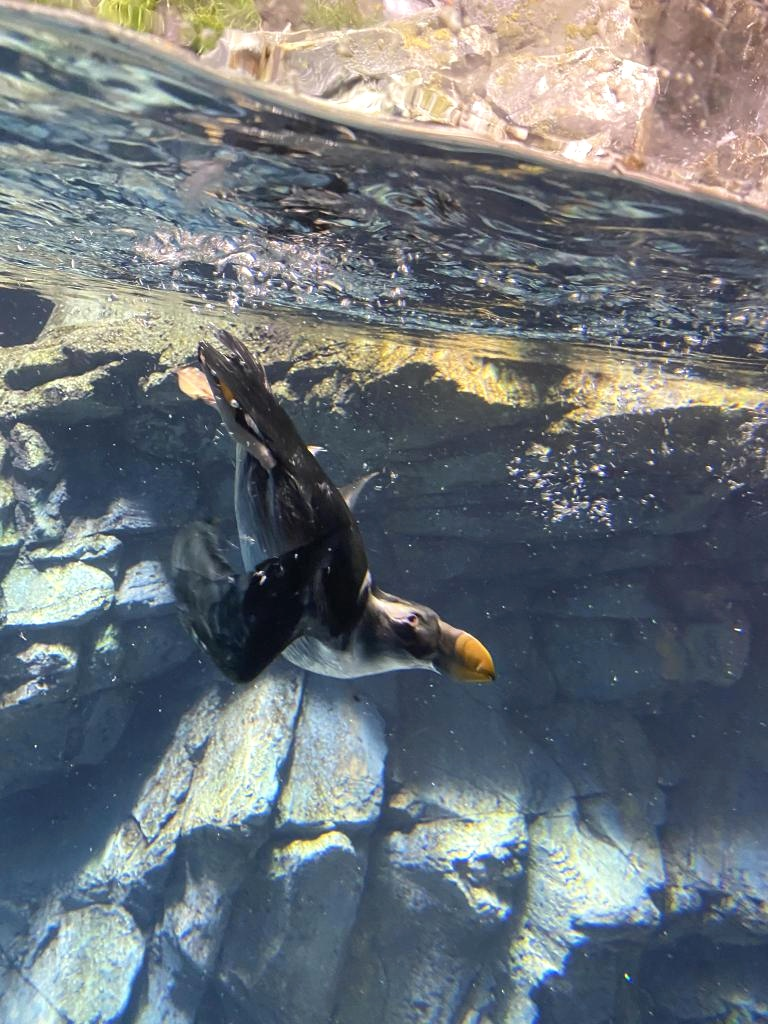puffin: (172, 330, 506, 696)
